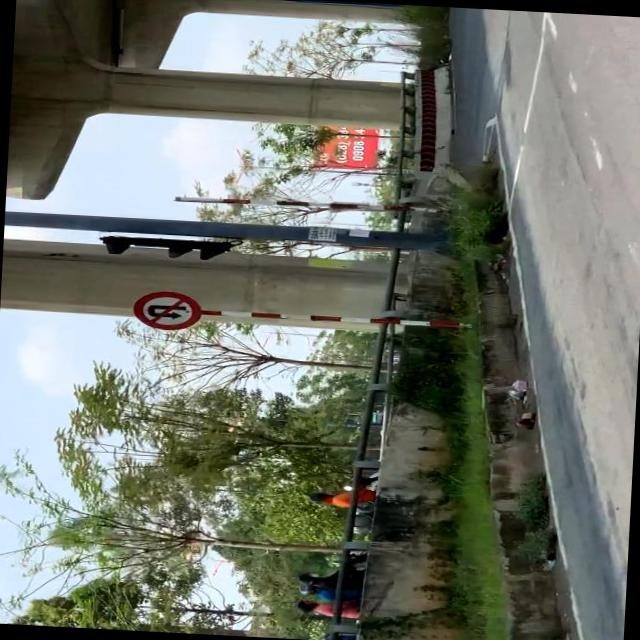P-124a1: (132, 288, 202, 332)
